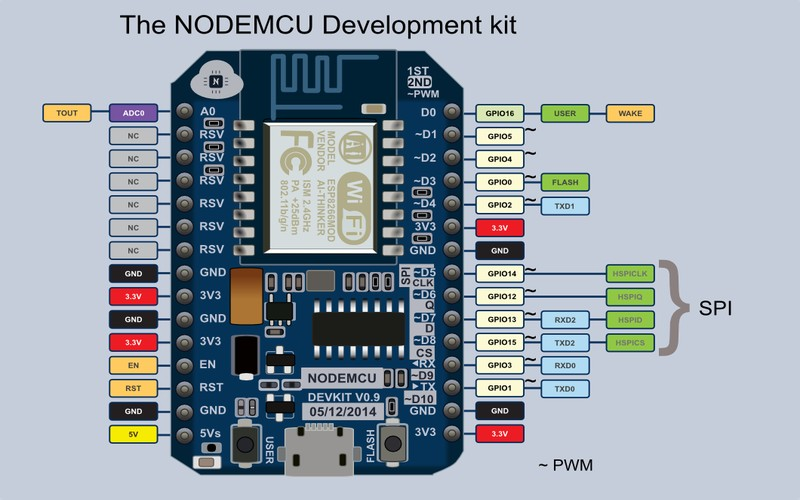IoT Sensor: (162, 37, 471, 480)
